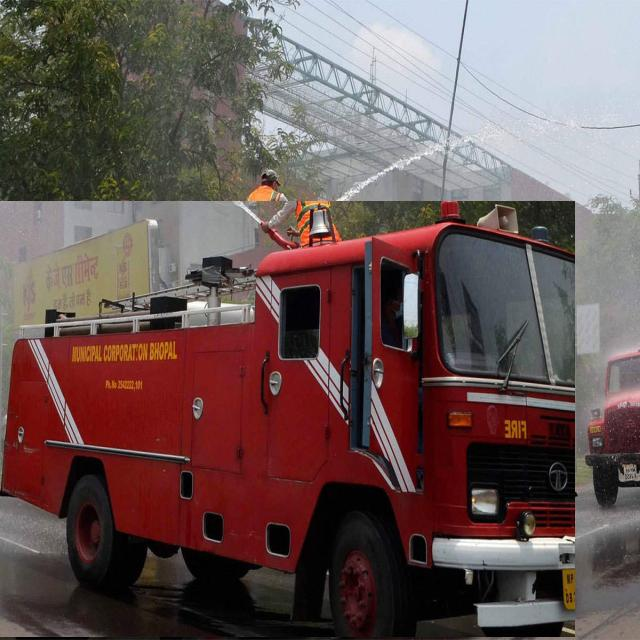emergency: (0, 201, 575, 637)
